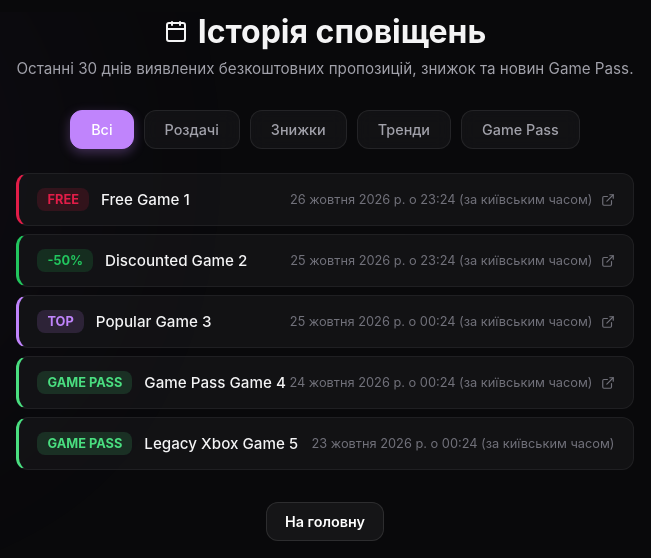
Scenario: HistoryPage › filters by type
What coordinates should you click on to do the following:
click the button "Роздачі"
I would click on:
 (192, 130)
Its box is [144,110,240,149].
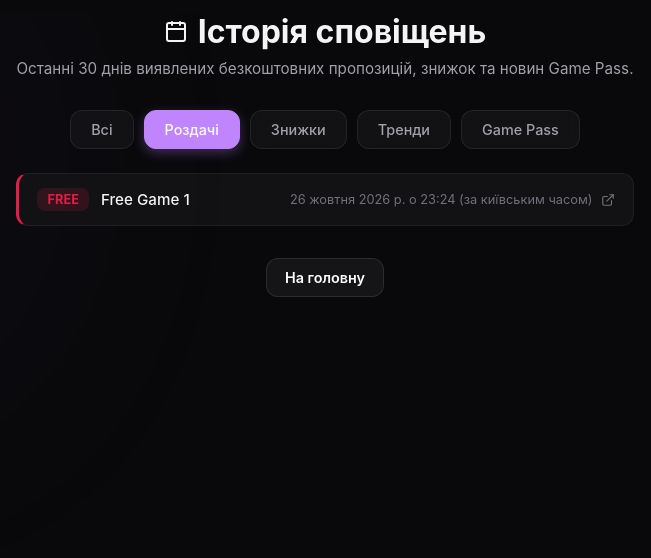
expect the text "Free Game 1" is shown: met, box [101,190,190,209]
expect the text "Discounted Game 2" is gone: met
expect the text "Popular Game 3" is gone: met
